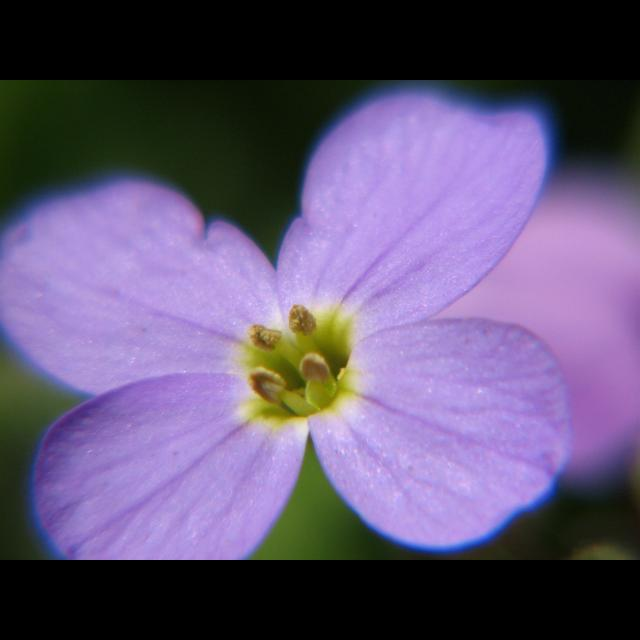Flower: (0, 87, 570, 559)
